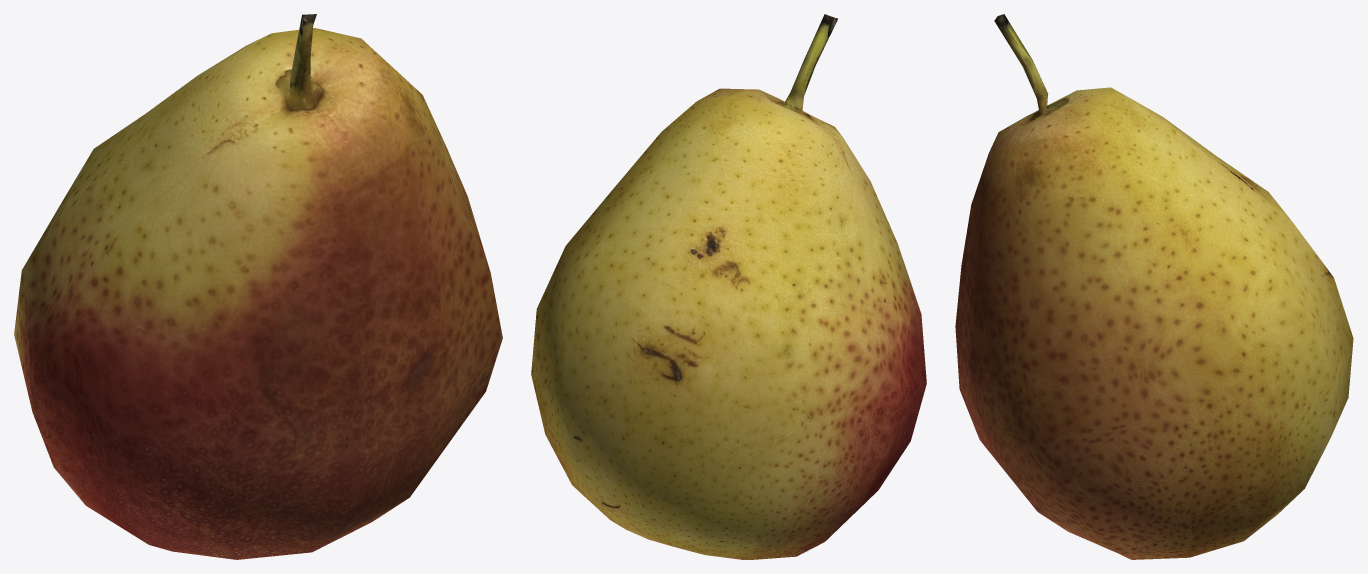
The model's file is A113_Pear_low.fbx.
3 views of the same model, side by side, from view 1: azimuth 30°, elevation 25°; view 2: azimuth 150°, elevation 25°; view 3: azimuth 270°, elevation 25° (orthographic). The views are drawn at different scales.
Parts seen in each view (by area): view 1: A113_Pear_low; view 2: A113_Pear_low; view 3: A113_Pear_low.
Boxes of the visible parts, box(x1,y1,x2,y2) form: A113_Pear_low: box(14, 14, 502, 559); A113_Pear_low: box(531, 14, 926, 559); A113_Pear_low: box(955, 14, 1353, 559).
Bounding box in the file's own units: 5.55 × 5.31 × 7.29.
Materials: 1 (1 with a texture image).
